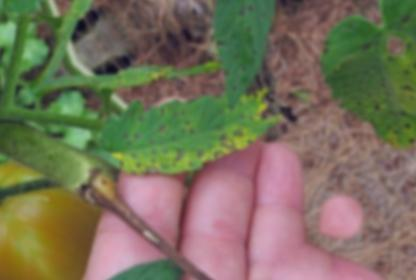Tomato Septoria leaf spot: (84, 33, 293, 224), (153, 0, 322, 117), (298, 1, 416, 168), (68, 240, 208, 280)
